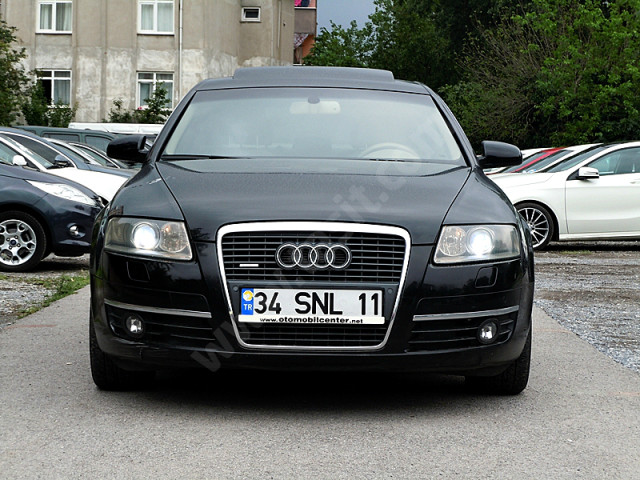audi: (268, 240, 358, 275)
